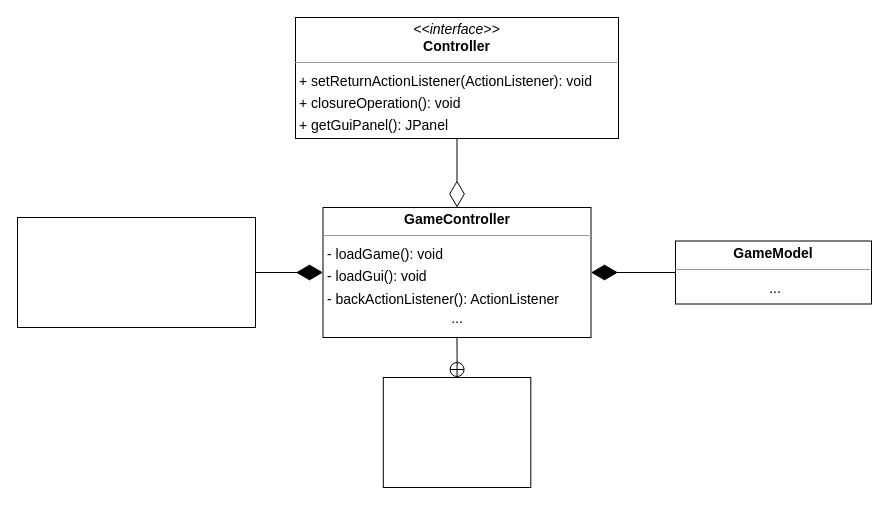
Image size: 889x511. Some labels were removed from this diagram. The shapes that lost their labels are listed below. From the top down, each one's centre as x and y in pixels, then its label:
pixel 136 272: GameGuiInt + addPanels(JPanel, String): void + showPanels(String): void ...
pixel 456 432: <<enumeration>> PanelsName + BATTLE + CITY ...
